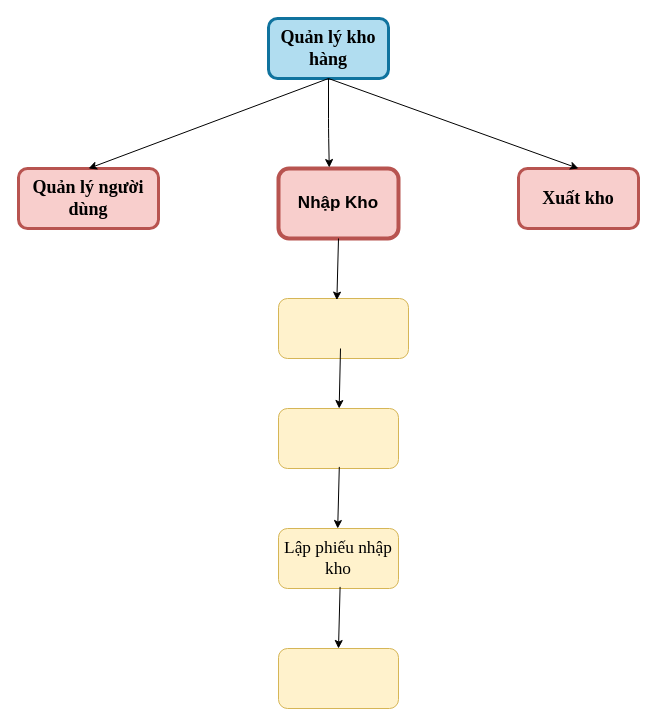
The diagram is 657 pixels wide and 726 high, and some of its shapes have lost their labels. The shapes that lost their labels are listed below. From the top down, each one's centre as x and y in pixels, then its label:
the point at 343,328: Thông báo kế hoạch nhập nguyên vật liệu
the point at 338,438: Kiểm tra hàng và đối chiếu
the point at 338,678: Hoàn thành nhập kho
